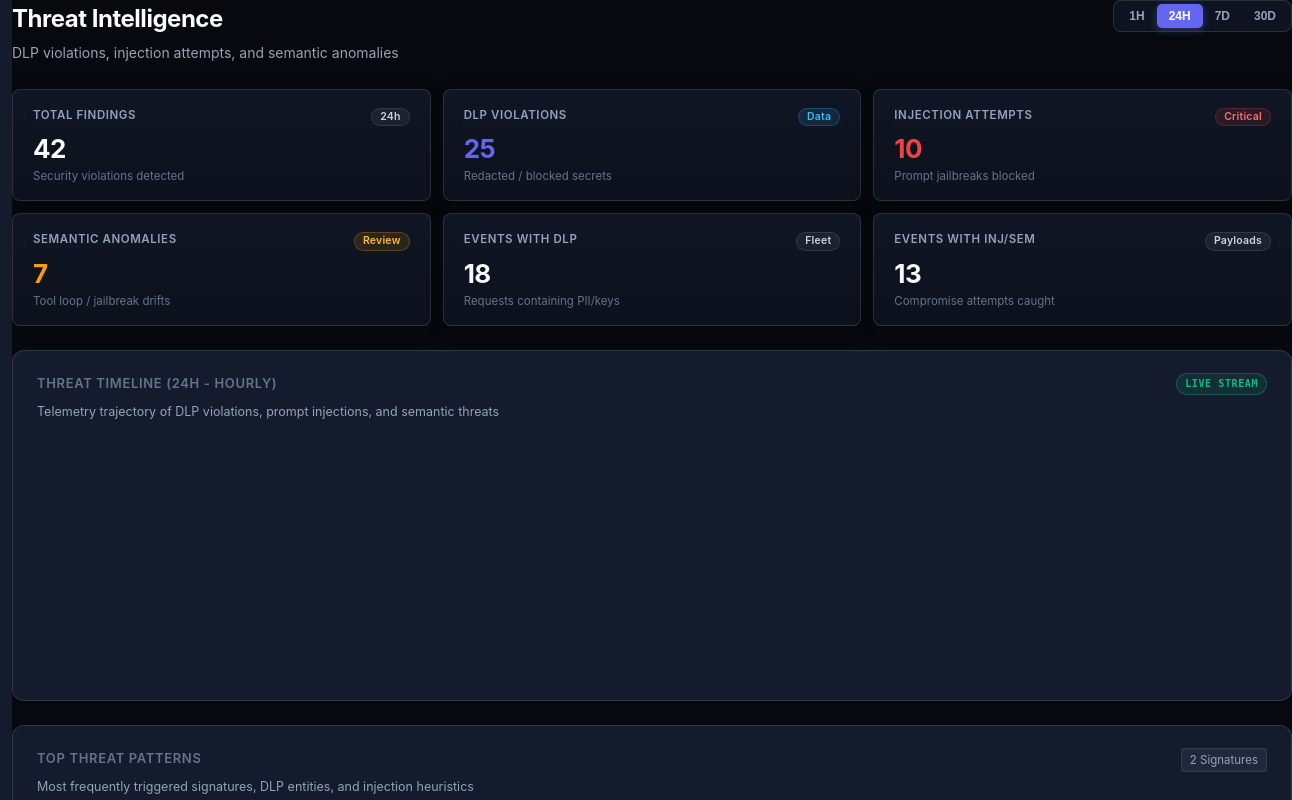
Test case: ThreatIntelligence › updates queries and timeline header when clicking 7D and 1H toggles
Expected: the heading "Threat Intelligence" is shown, [12,4,223,33]
# Click 7D button
Click the button "7D": (1222, 16) [1203,4,1242,28]
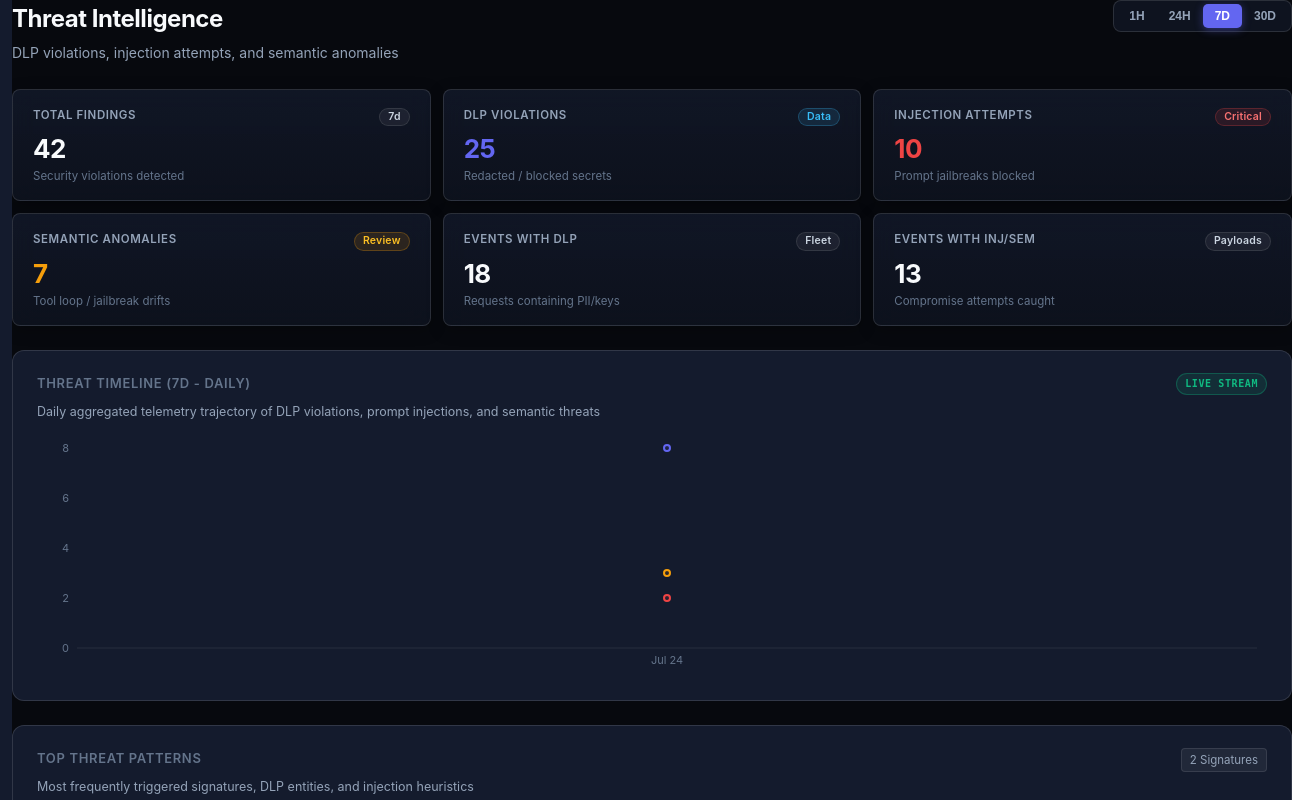
Result: the text "Threat Timeline (7D - Daily)" is shown at [37,375,251,391]
# Click 1H button
Click the button "1H": (1137, 16) [1117,4,1157,28]
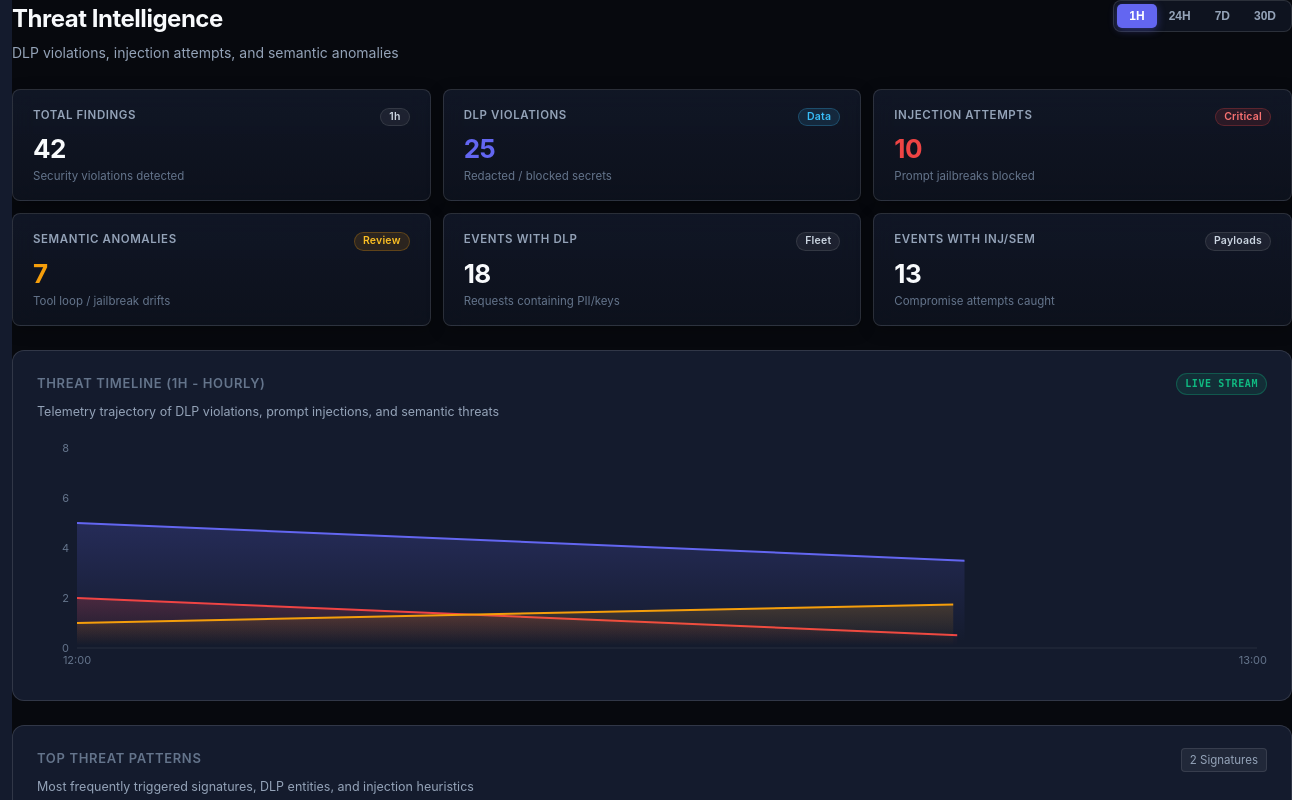
Result: the text "Threat Timeline (1H - Hourly)" is shown at [37,375,266,391]
